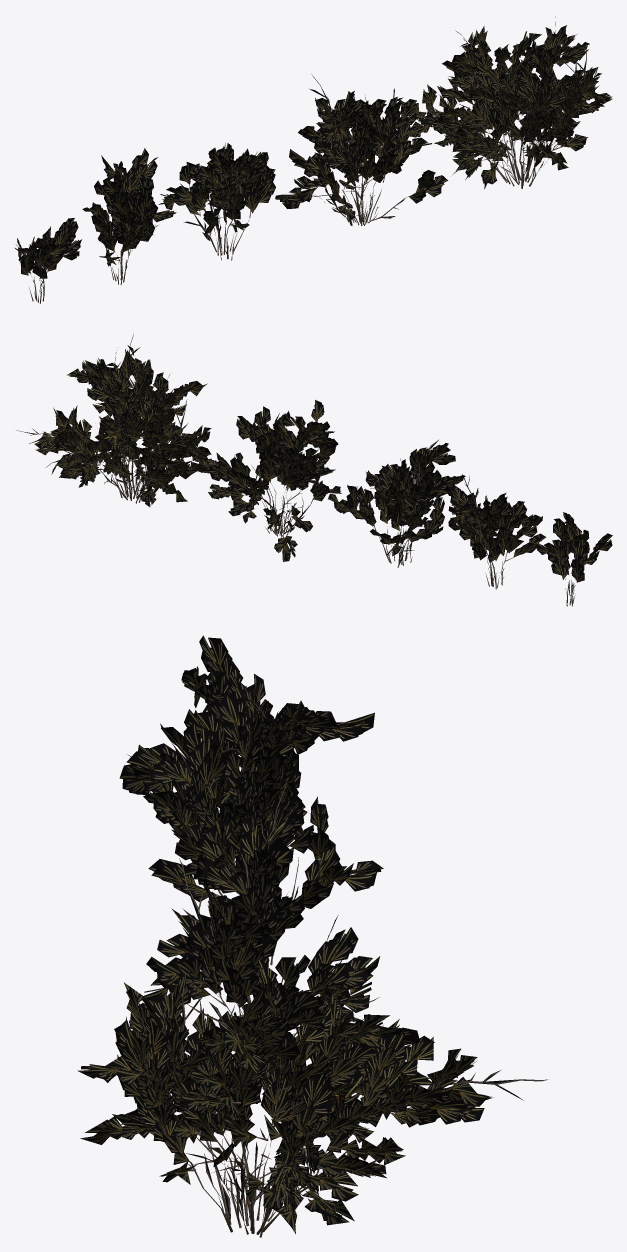
Rendered from wild_rooibos_bush.glb.
3 renders of one model, top to bottom at view 1: azimuth 30°, elevation 25°; view 2: azimuth 150°, elevation 25°; view 3: azimuth 270°, elevation 25°, orthographic. The views are drawn at different scales.
Visible parts, largest first — view 1: wild_rooibos_bush_a, wild_rooibos_bush_b, wild_rooibos_bush_c, wild_rooibos_bush_d, wild_rooibos_bush_e; view 2: wild_rooibos_bush_a, wild_rooibos_bush_b, wild_rooibos_bush_c, wild_rooibos_bush_d, wild_rooibos_bush_e; view 3: wild_rooibos_bush_a, wild_rooibos_bush_b, wild_rooibos_bush_c, wild_rooibos_bush_d, wild_rooibos_bush_e.
Part boxes in pixels (<box>): wild_rooibos_bush_a: <box>397,17,612,189</box>; wild_rooibos_bush_b: <box>275,75,447,225</box>; wild_rooibos_bush_c: <box>158,143,275,260</box>; wild_rooibos_bush_d: <box>82,148,176,284</box>; wild_rooibos_bush_e: <box>14,218,81,303</box>; wild_rooibos_bush_a: <box>16,334,218,506</box>; wild_rooibos_bush_b: <box>201,400,341,561</box>; wild_rooibos_bush_c: <box>328,440,465,567</box>; wild_rooibos_bush_d: <box>445,474,546,589</box>; wild_rooibos_bush_e: <box>537,512,612,606</box>; wild_rooibos_bush_a: <box>77,959,547,1237</box>; wild_rooibos_bush_b: <box>129,780,380,1052</box>; wild_rooibos_bush_c: <box>119,722,383,965</box>; wild_rooibos_bush_d: <box>160,674,374,865</box>; wild_rooibos_bush_e: <box>181,635,272,755</box>.
Bounding box in the file's own units: 2.27 × 0.541 × 0.8432.
Materials: 2 (2 with a texture image).
